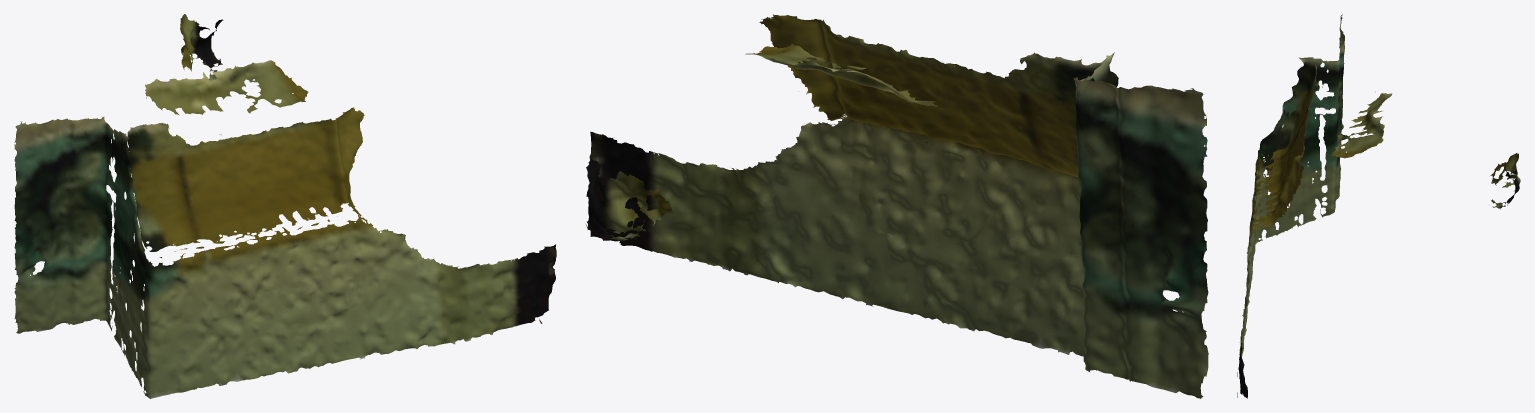
The model's file is final_color_model_20260211_234505.obj.
3 views of the same model, side by side, from view 1: azimuth 30°, elevation 25°; view 2: azimuth 150°, elevation 25°; view 3: azimuth 270°, elevation 25° (orthographic). The views are drawn at different scales.
Bounding box in the file's own units: 2.15 × 1.13 × 1.39.
